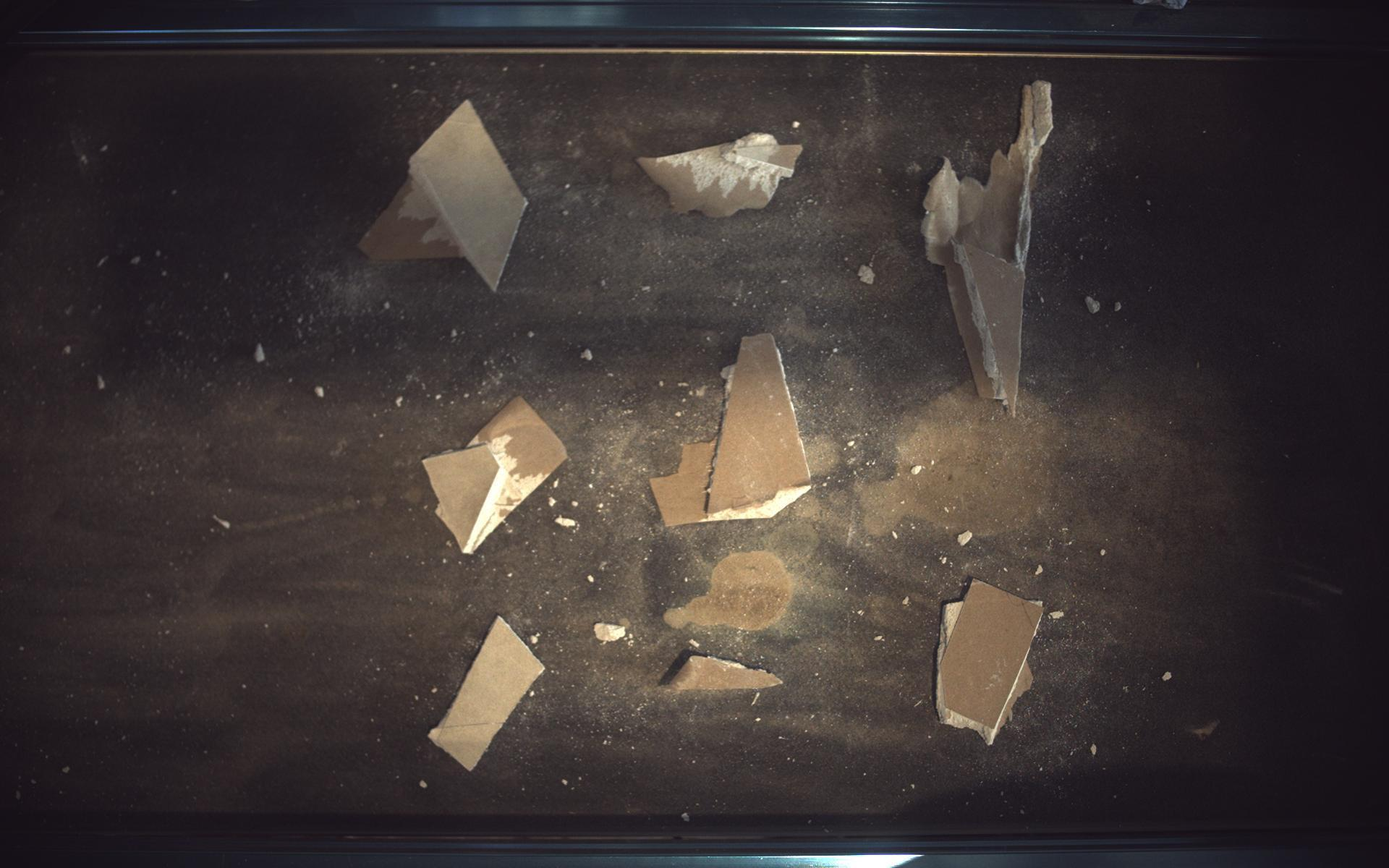gypsum_board: (923, 79, 1055, 417), (358, 100, 527, 289), (650, 334, 812, 527), (422, 396, 567, 555), (428, 618, 545, 772), (938, 579, 1045, 746), (638, 132, 804, 216), (670, 655, 783, 692)
